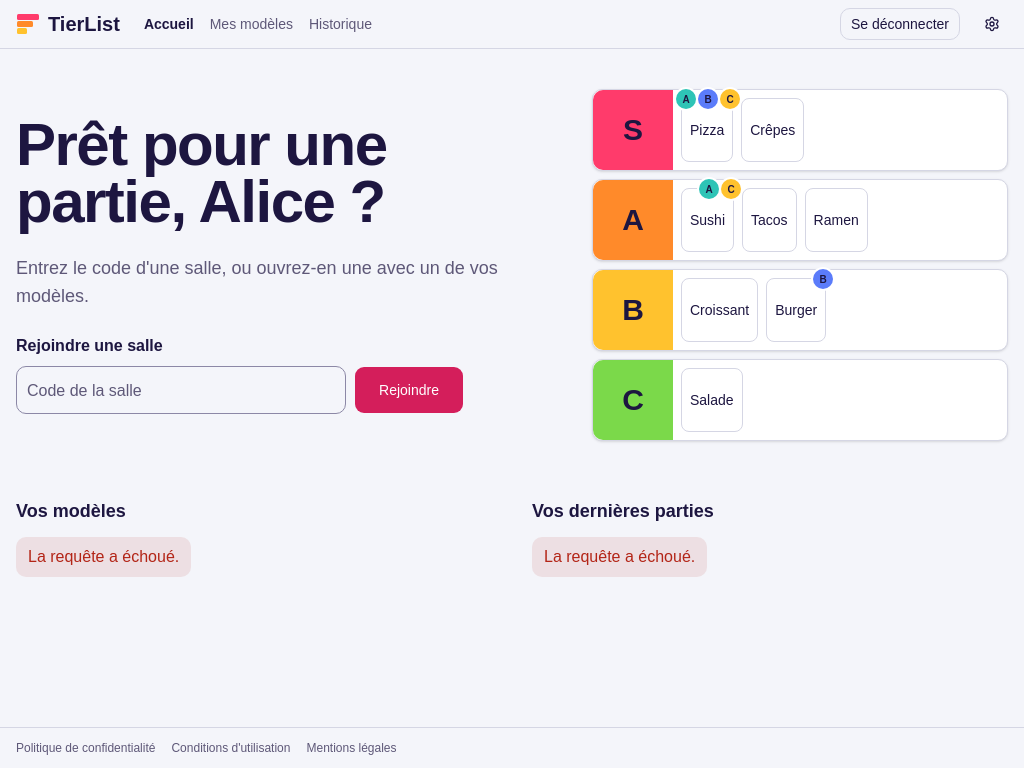
Test: SettingsPanel › deletes the account from the panel, then closes it on the login page
Check: the heading "Prêt pour une partie, Alice ?" is shown, box [16,111,386,235]
Click the button named "Paramètres": (992, 24) [976,8,1008,40]
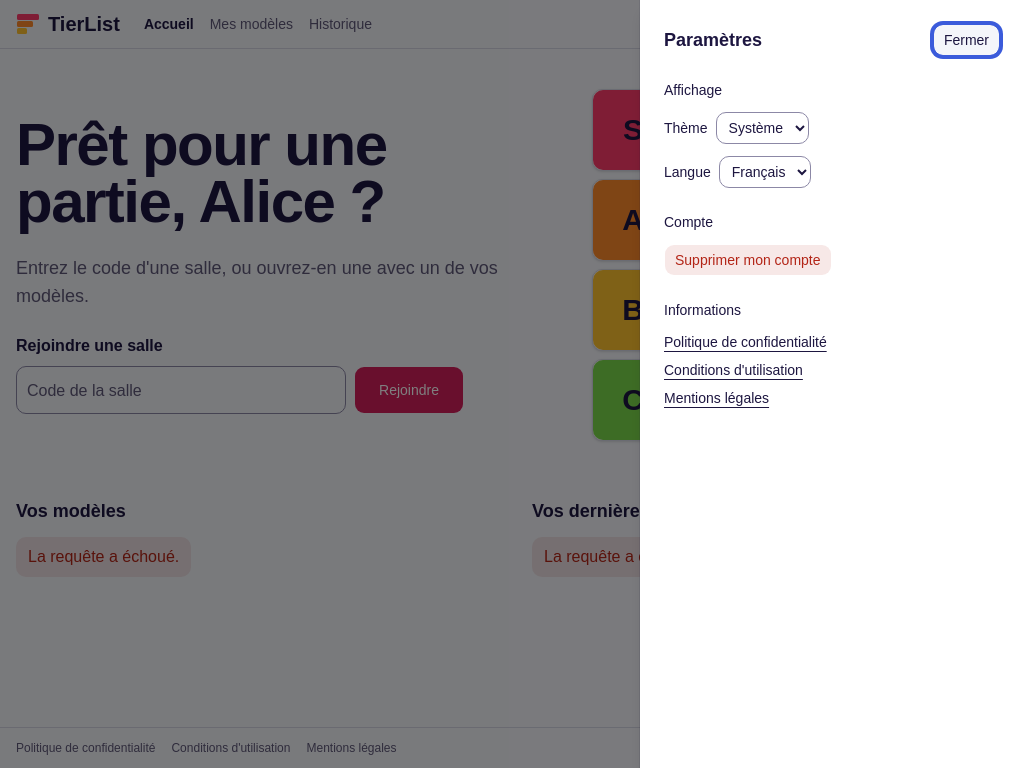
Check: the heading "Compte" is shown, box [664,212,713,232]
Click the button "Supprimer mon compte": (748, 260) [664,244,832,276]
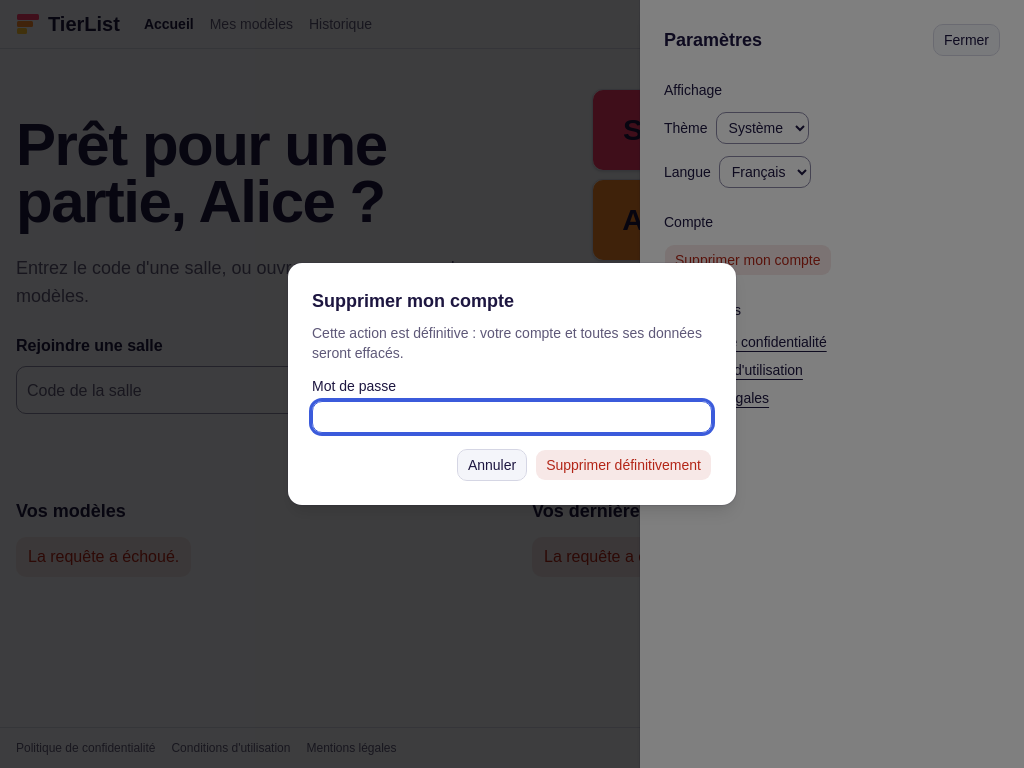
In the password field labelled "Mot de passe": (512, 417) [312,401,712,433], type "secret"
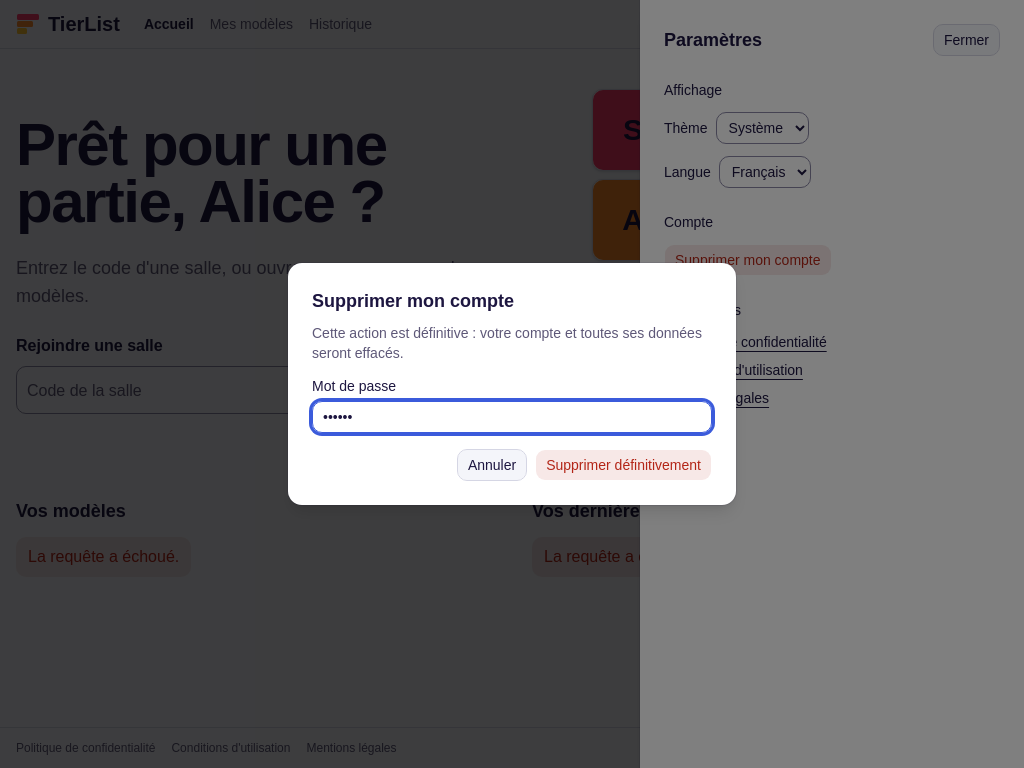
Click the button "Supprimer définitivement": (624, 465) [535,449,712,481]
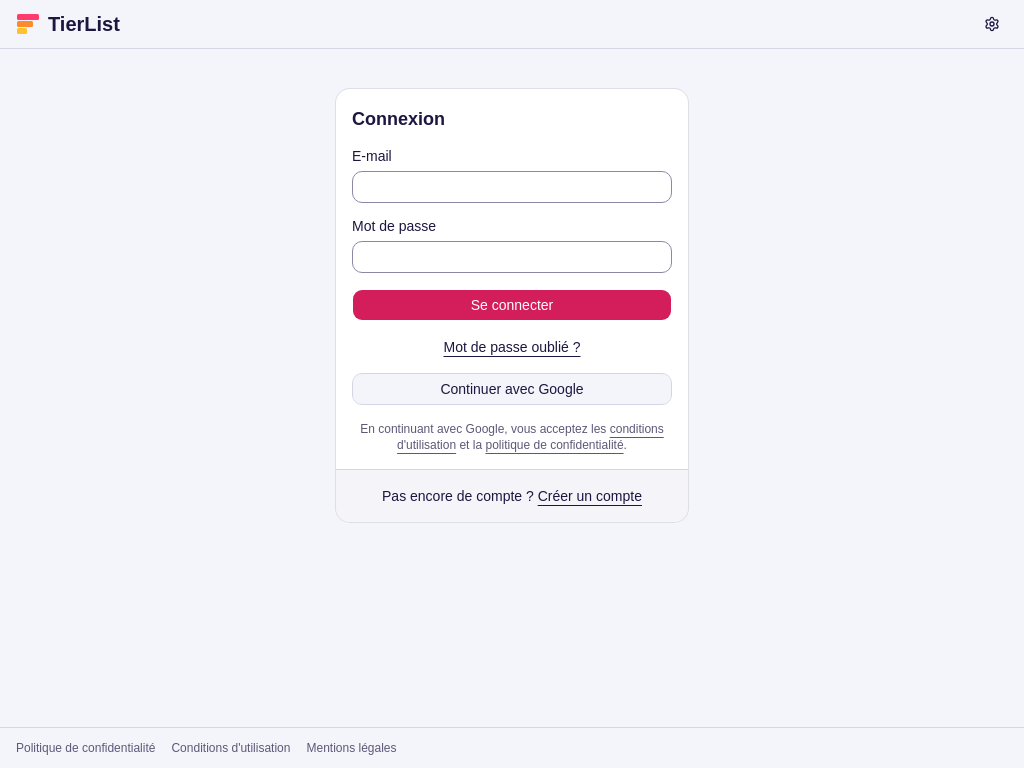
Check: the heading "Connexion" is shown, box [352,109,445,129]
Check: the heading "Paramètres" is gone
